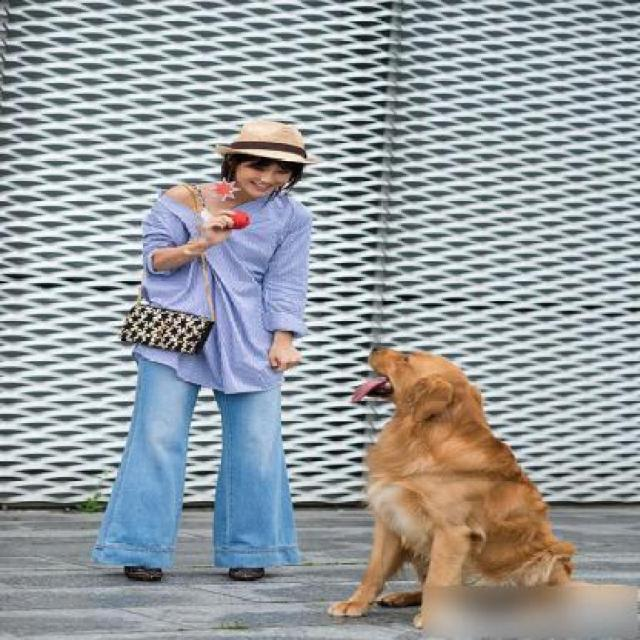Person: (74, 97, 337, 608)
